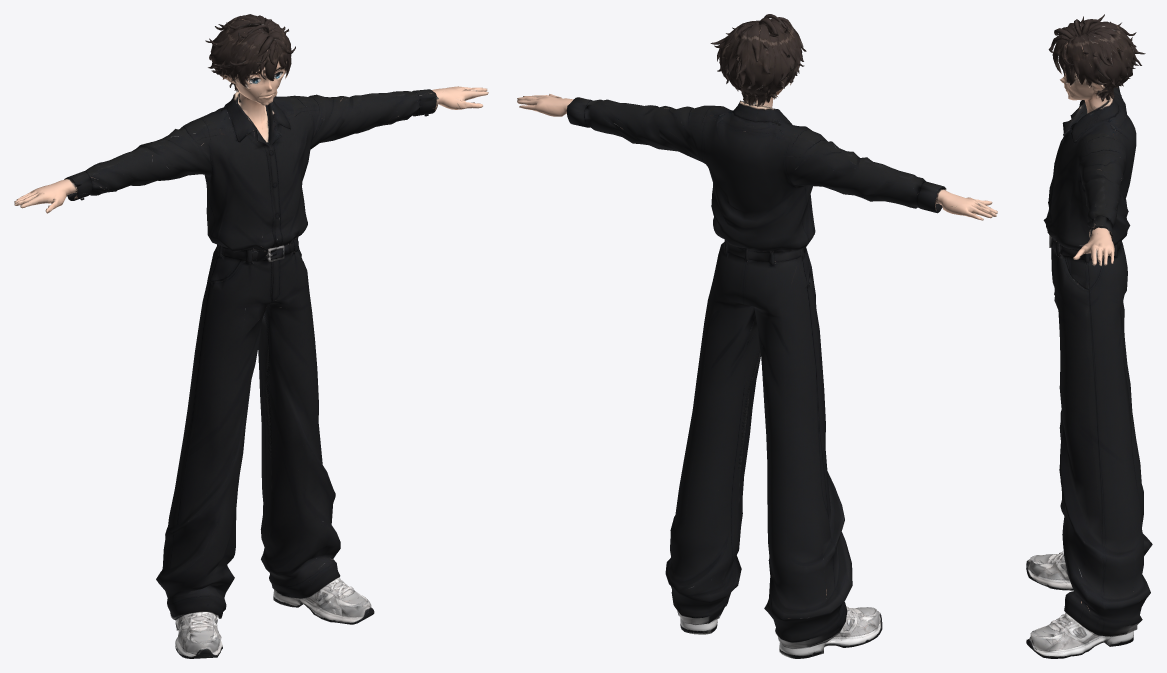
Rendered from pasha.glb.
3 views of the same model, side by side, from view 1: azimuth 30°, elevation 25°; view 2: azimuth 150°, elevation 25°; view 3: azimuth 270°, elevation 25° (orthographic). The views are drawn at different scales.
Size of the model in its own units: 0.7817 by 0.9507 by 0.1841.
1 material, 1 textured.
